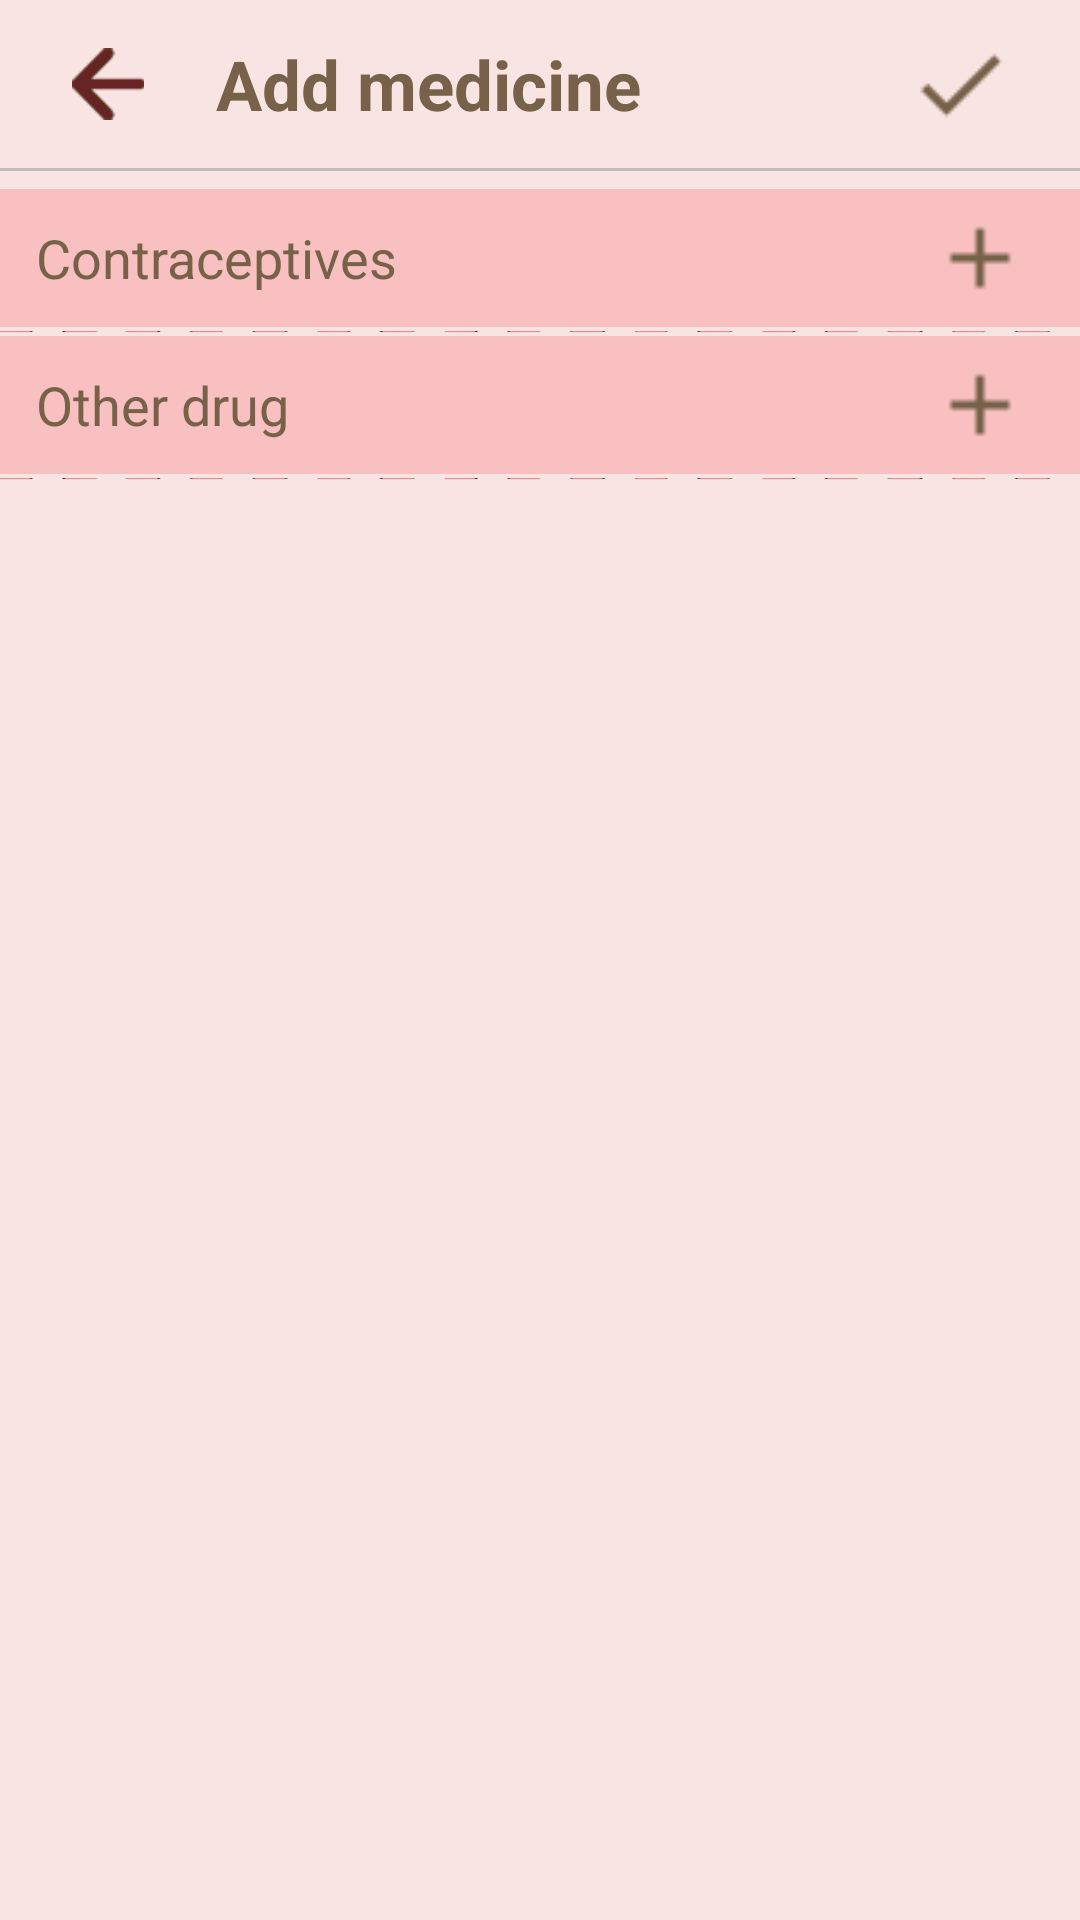

Where to tap for icons on this 1080px x 1920px app screen, as (x=x, y=y):
back: (x=108, y=84)
done: (x=961, y=85)
